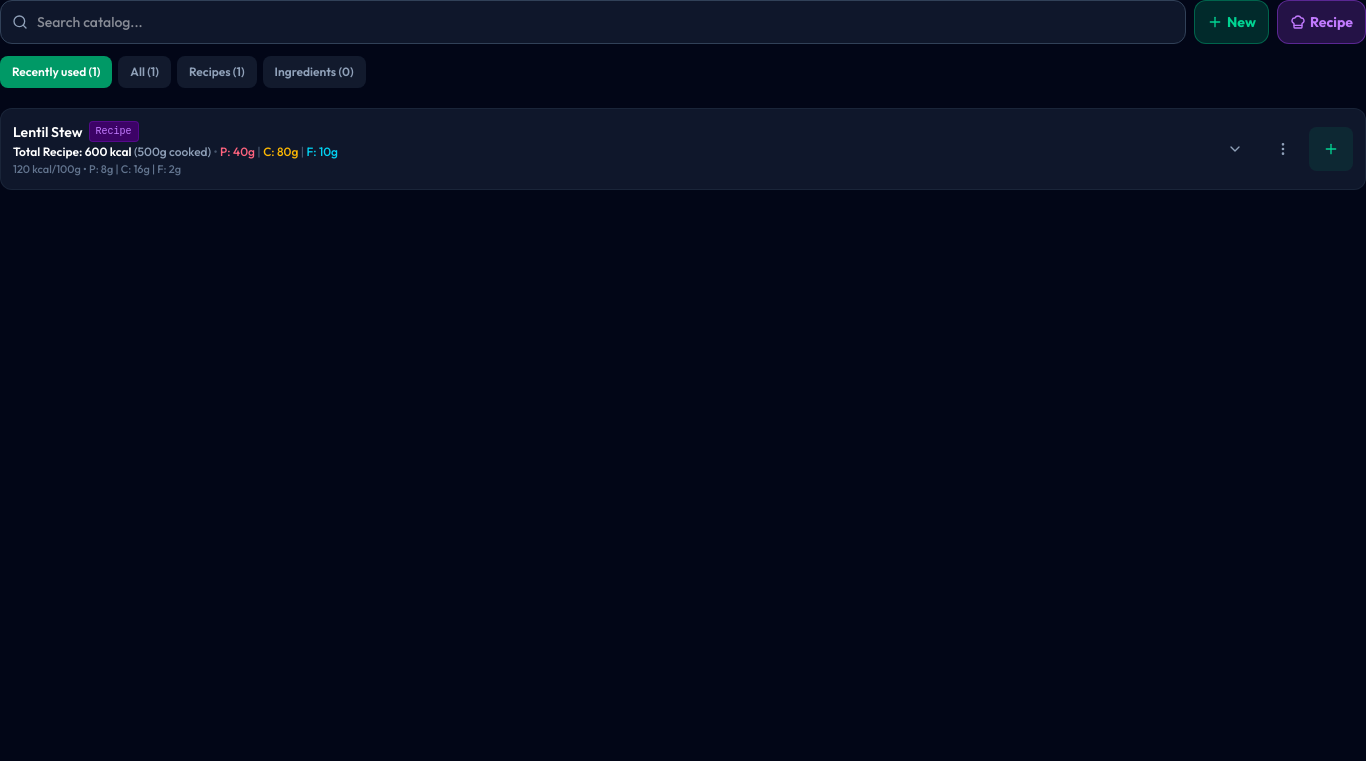
Test: CatalogManager - Recipes Integration › opens RecipeBuilder prefilled when edit option in context menu is clicked
Click the button named "Item options": [1283, 149] box [1261,127,1305,171]
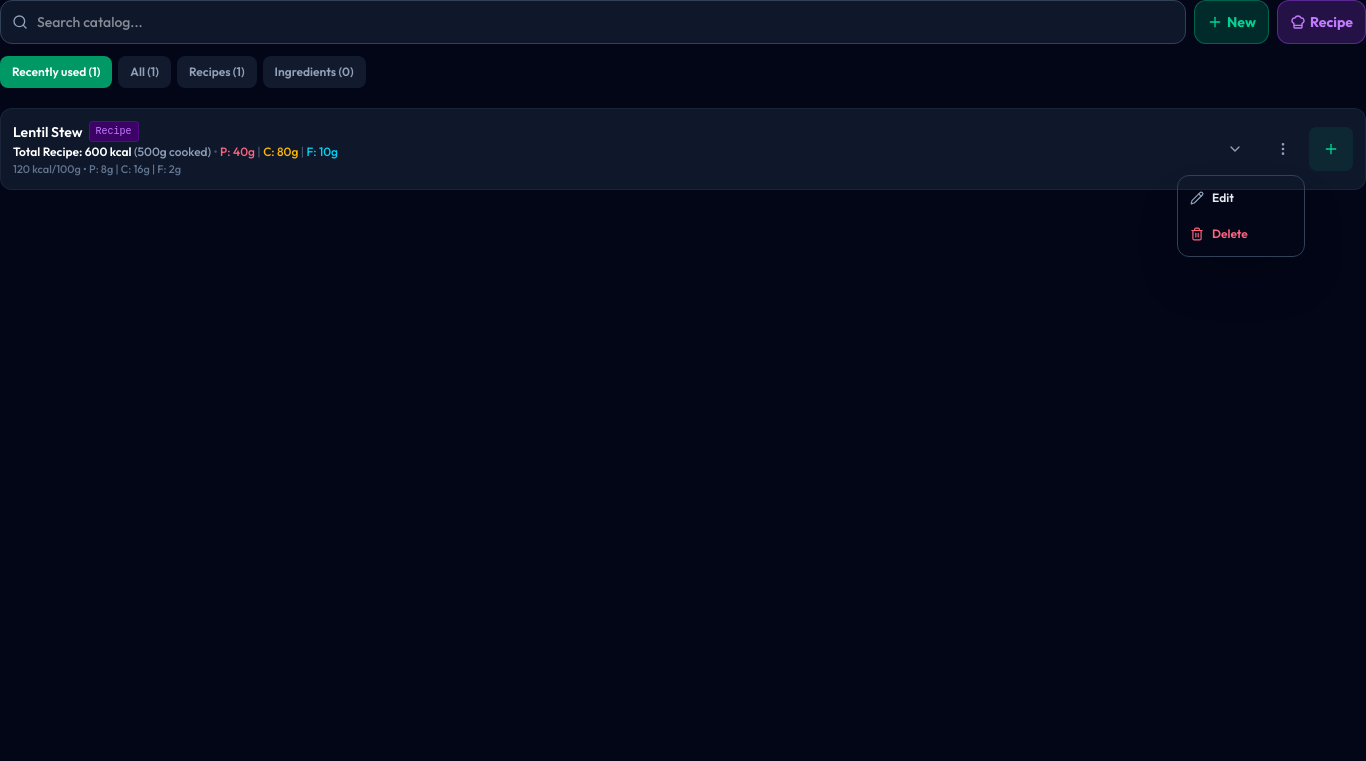
Click the menu item with aria-label "Edit recipe": [1241, 198] box [1178,180,1304,216]
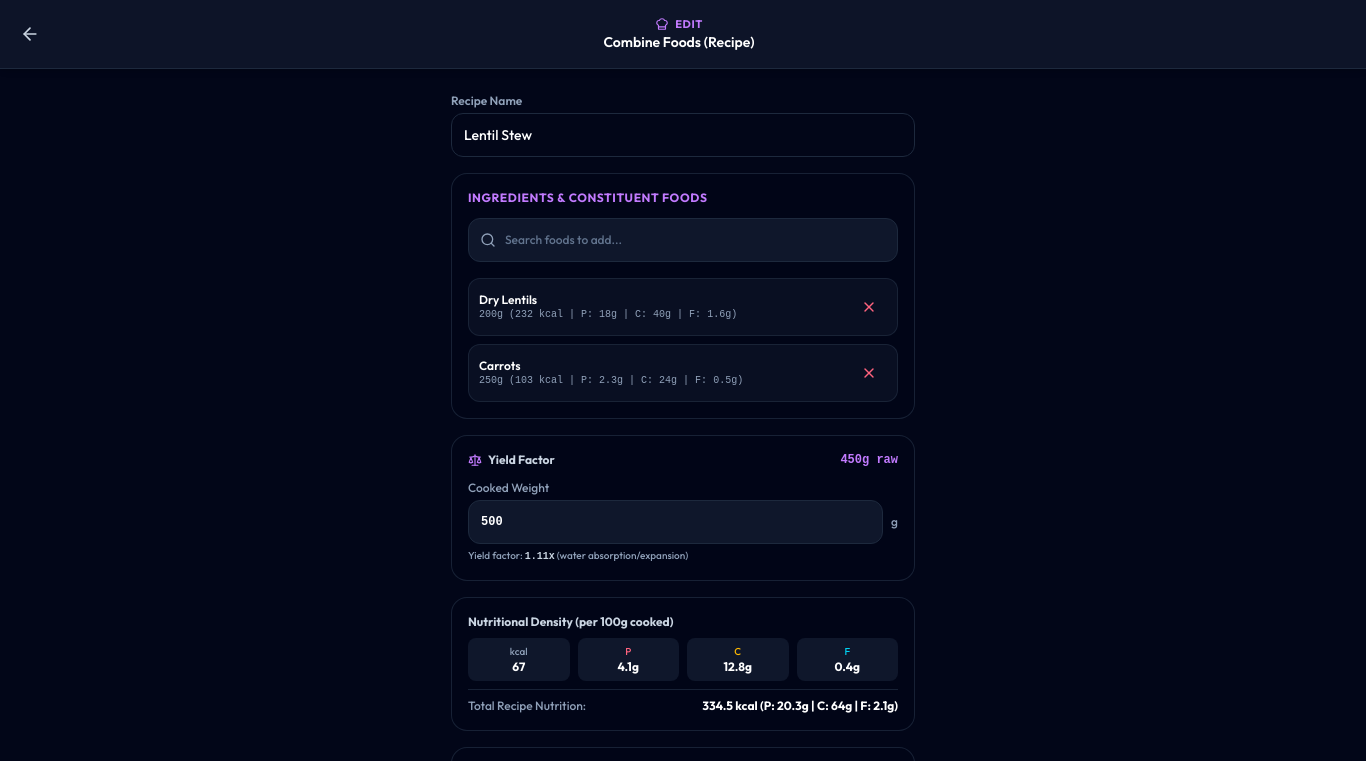
Check: the heading "Combine Foods (Recipe)" is shown, box [603,33,755,51]
Check: the field showing "Lentil Stew" is shown, box [451,113,915,157]
